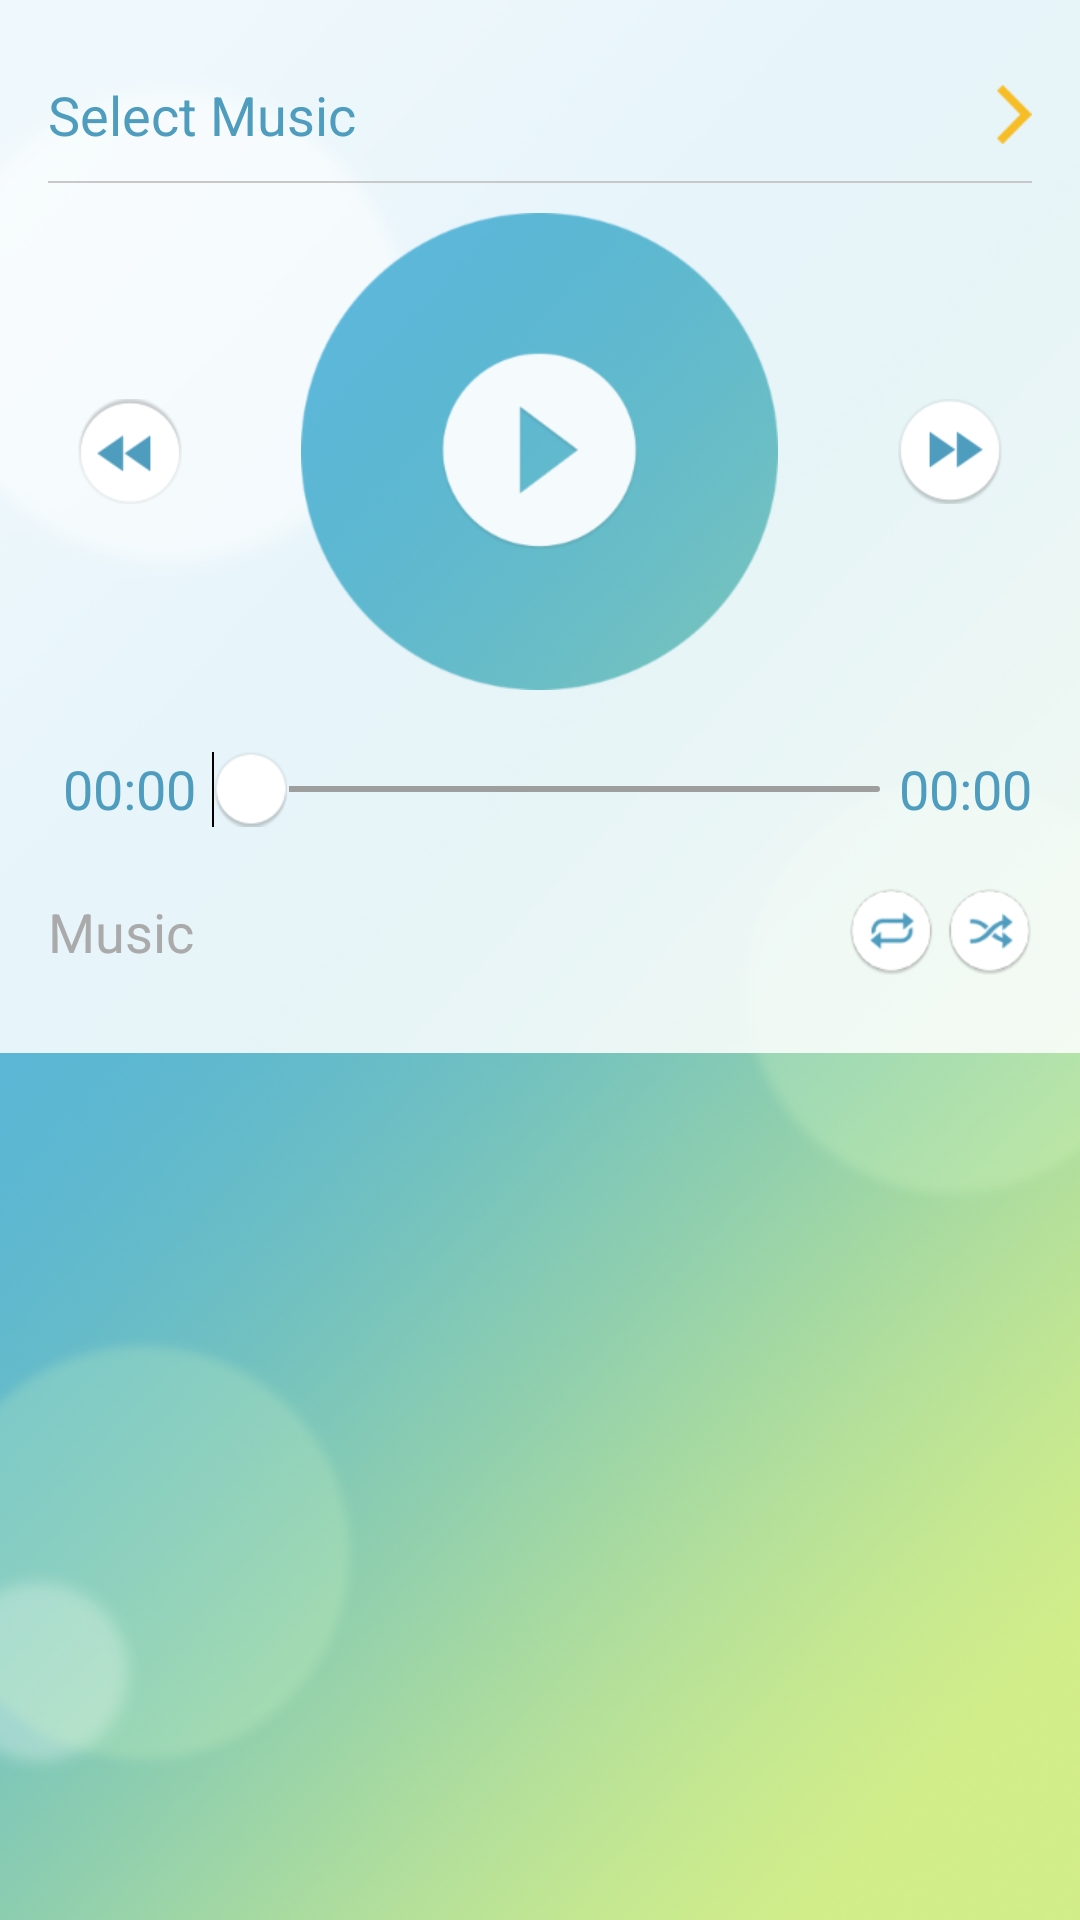

Screen size 1080x1920. Icon name, then its box in pixels as (x1, y1, x2, y2):
music back: (78, 399, 182, 504)
music fast: (898, 399, 1002, 504)
music loop play: (850, 889, 933, 975)
music radom play: (948, 889, 1031, 975)
